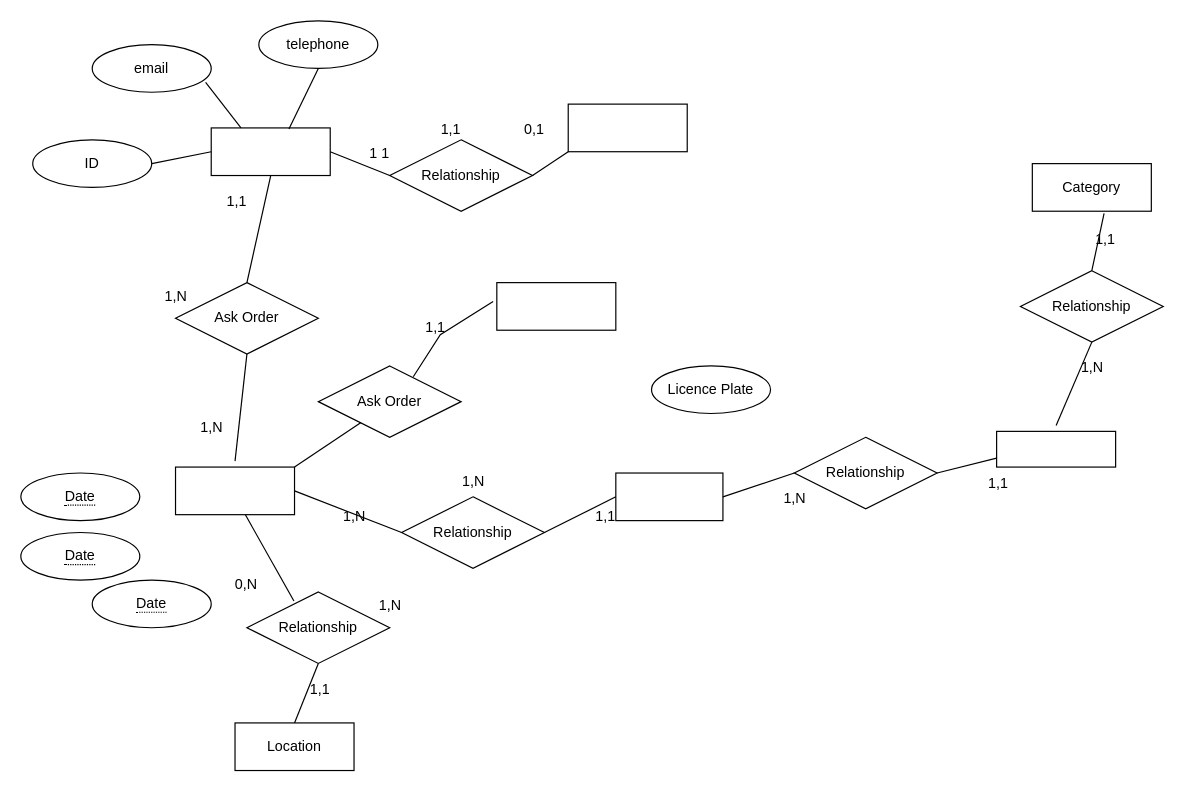
Some shapes in this 1184 by 791 pixel diagram are drawn without their labels. The shapes that lost their labels are listed below. From the top down, each one's centre as x and y in pixels, then its label:
the point at 627,127: Licences
the point at 270,151: User
the point at 556,305: Ensurence
the point at 1055,448: Model
the point at 234,490: Orders
the point at 669,496: Vehicles
